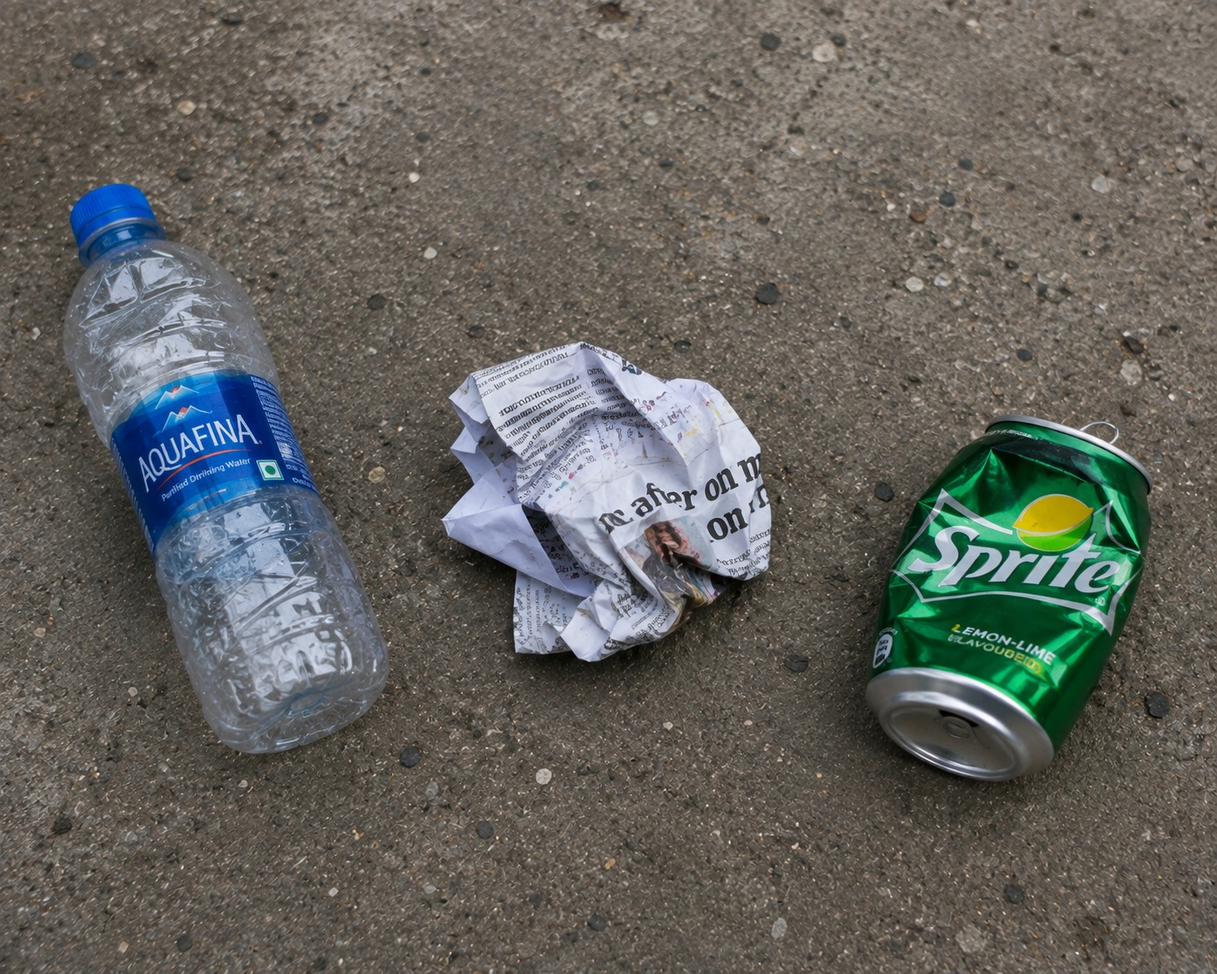metal: (864, 407, 1156, 791)
paper: (438, 317, 779, 677)
plastic: (67, 180, 396, 755)
